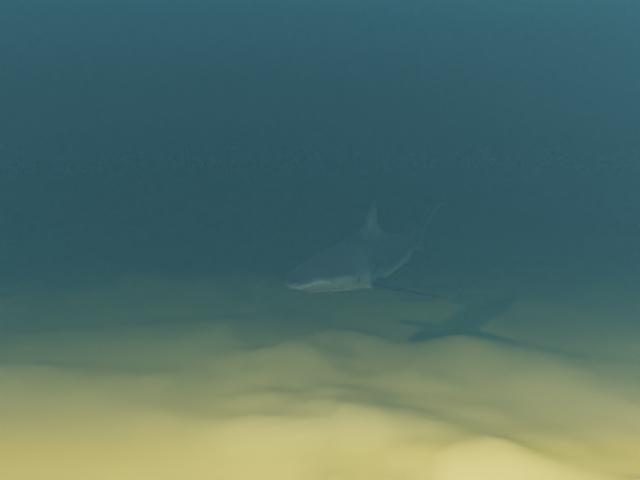Carribean Shark.001: (284, 190, 454, 297)
